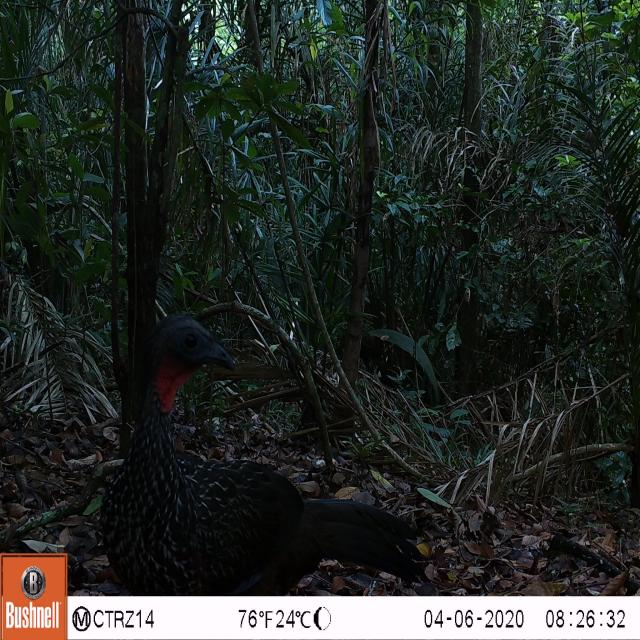Spixs Guan: (94, 306, 423, 592)
